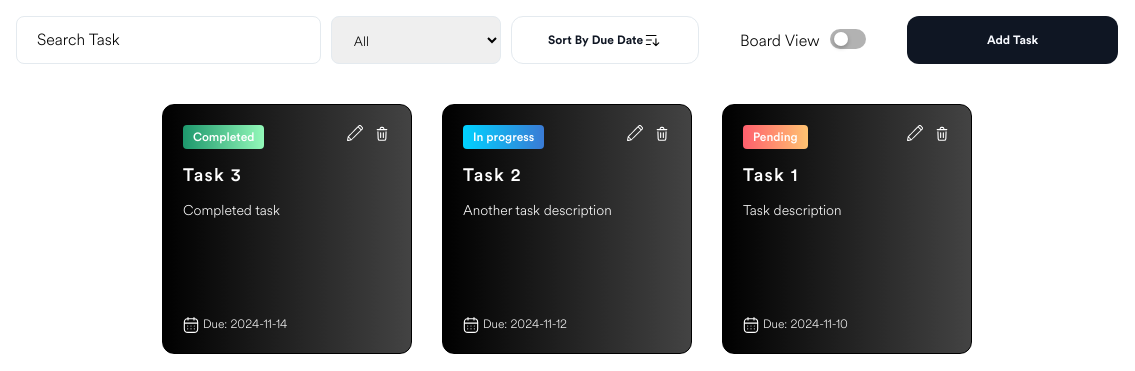
Test: Home Component › handles search input and filters tasks
Type "Task 1" into the field with placeholder "Search Task" at (168, 40), box [16, 16, 321, 64]
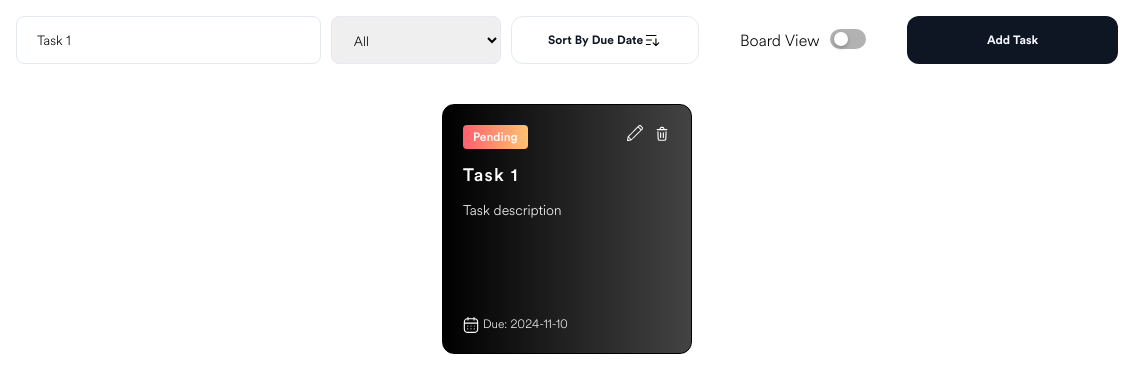
Now the text "Task 1" is shown, box [463, 166, 519, 184]
Now the text "Task 2" is gone
Now the text "Task 3" is gone
